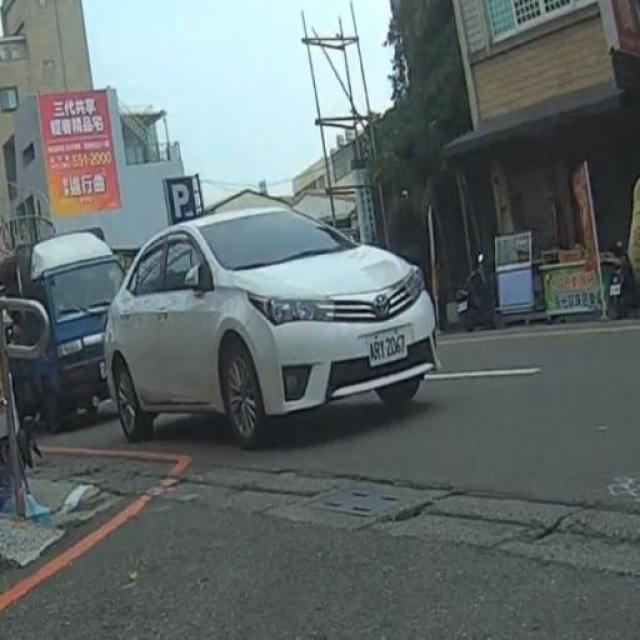Legalparking: (9, 189, 465, 466)
